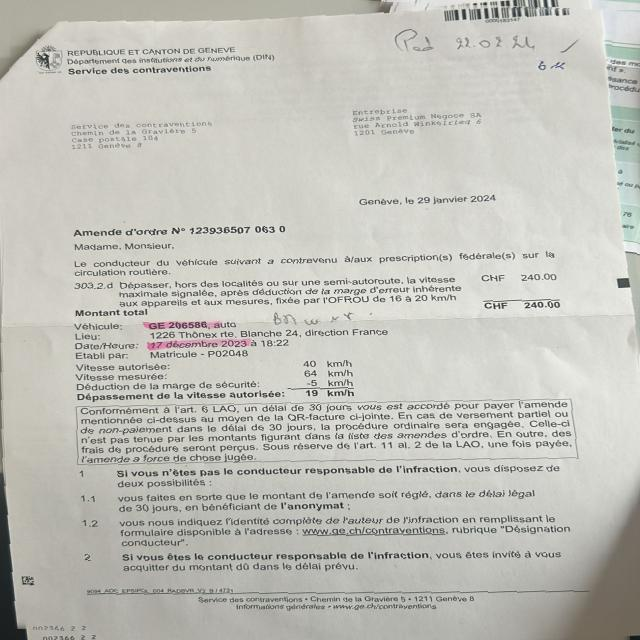paper-document-: (9, 9, 636, 640)
